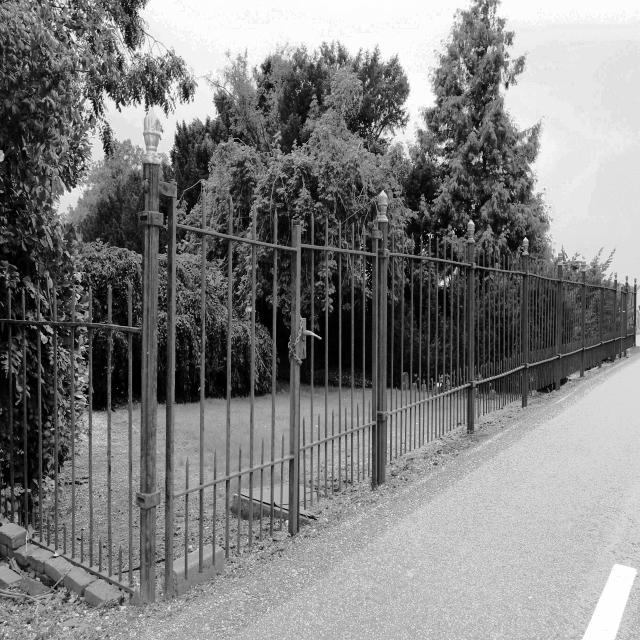fences: (174, 195, 374, 512), (4, 276, 156, 581), (399, 253, 507, 448), (510, 259, 640, 391)
